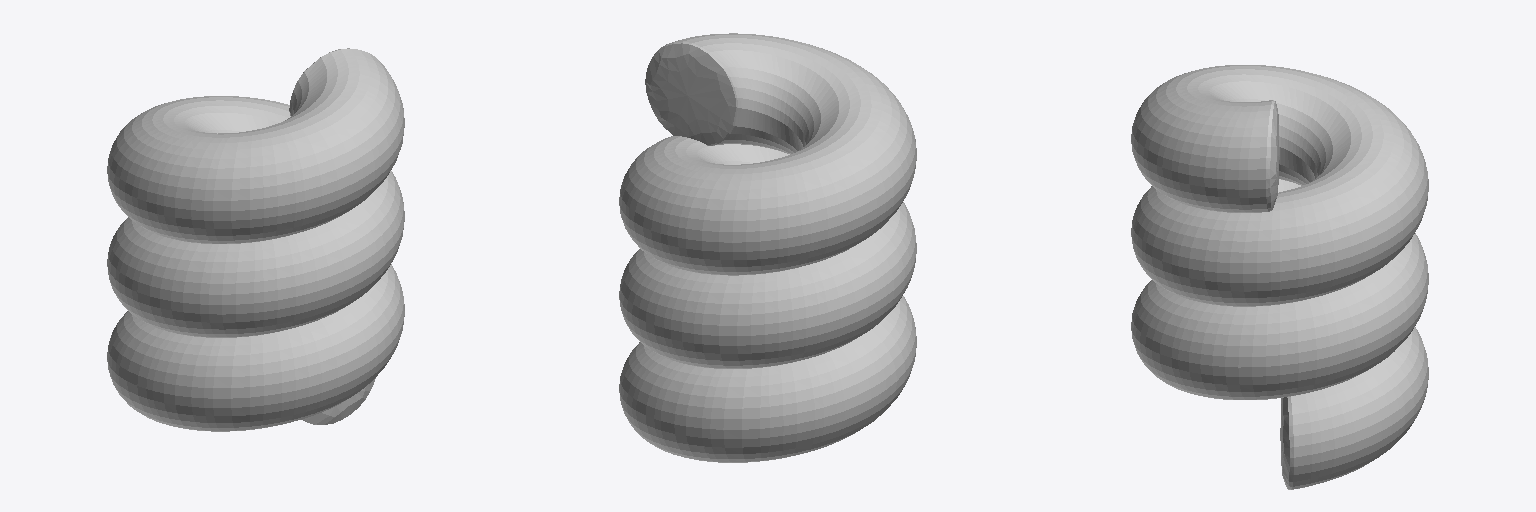
Rendered from helix_67.5.obj.
3 views of the same model, side by side, from view 1: azimuth 30°, elevation 25°; view 2: azimuth 150°, elevation 25°; view 3: azimuth 270°, elevation 25° (orthographic).
Parts seen in each view (by area): view 1: helix:pHelix1; view 2: helix:pHelix1; view 3: helix:pHelix1.
Part boxes in pixels (x1,y1,x2,y2): helix:pHelix1: (107, 48, 404, 431); helix:pHelix1: (619, 33, 916, 462); helix:pHelix1: (1131, 65, 1428, 489).
Bounding box in the file's own units: 1.92 × 2.71 × 1.92.